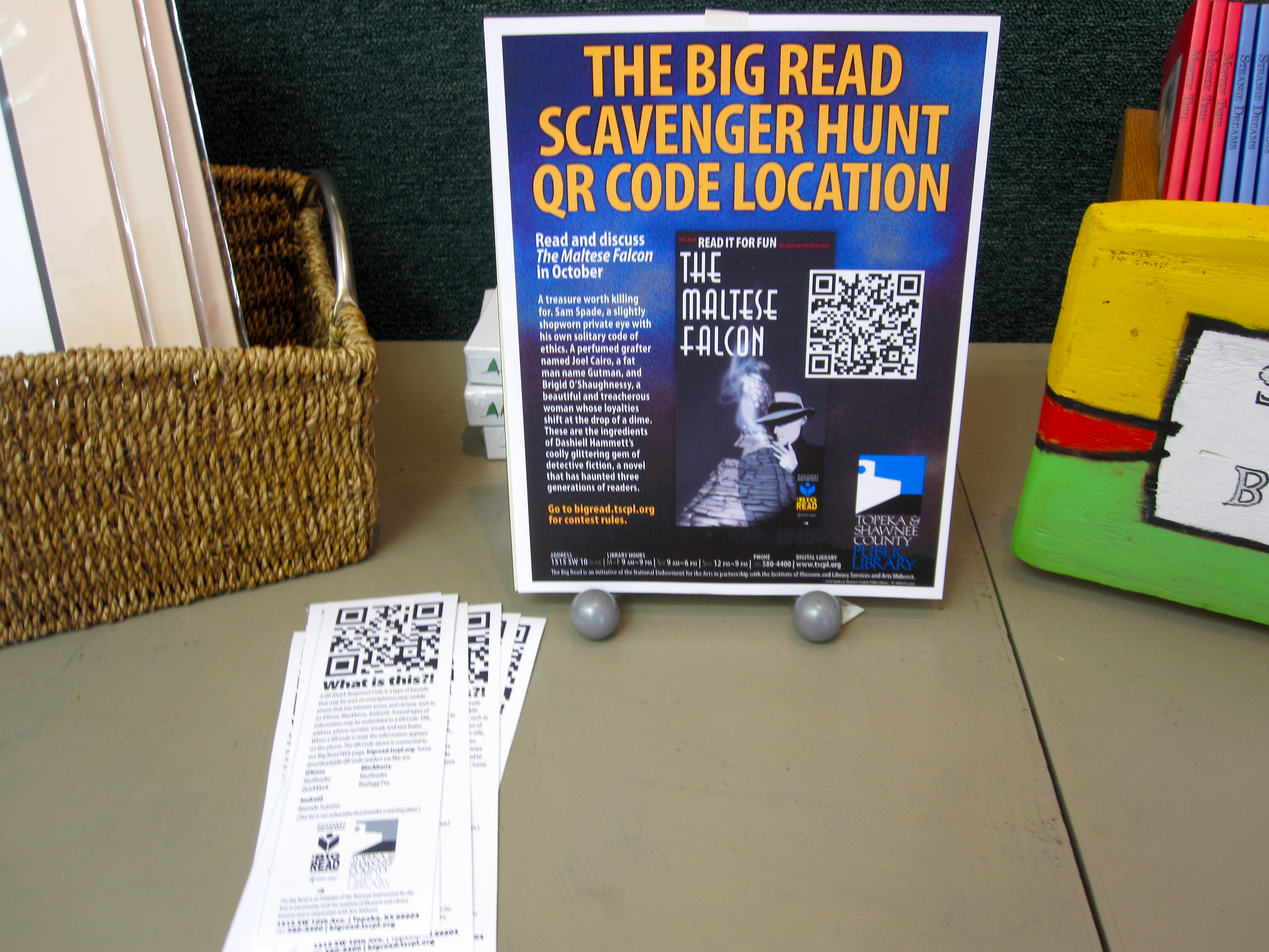QR-CODE: (808, 273, 921, 376), (325, 601, 444, 677), (500, 624, 531, 716), (468, 612, 490, 684)
